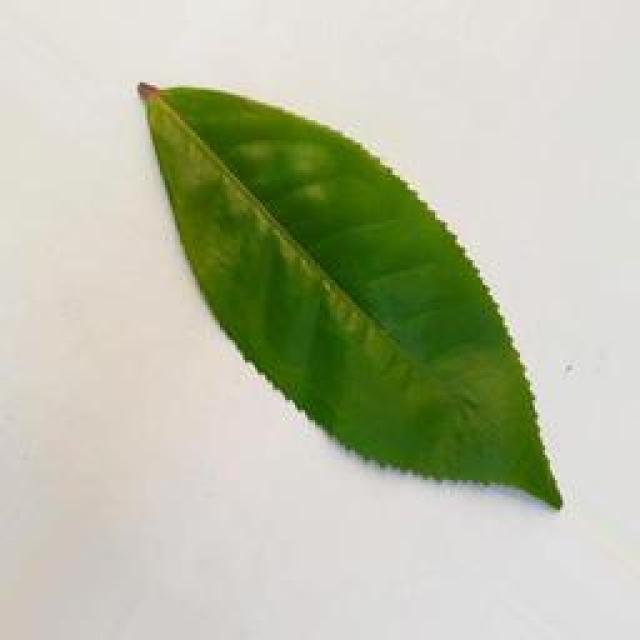Healthy: (128, 70, 565, 512)
